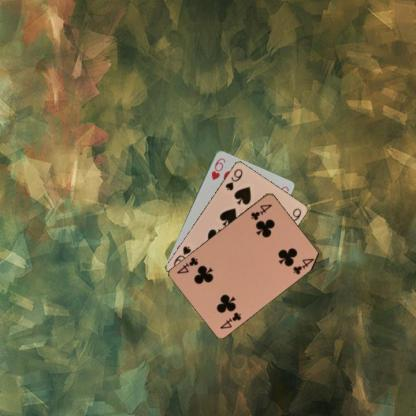4c: (217, 309, 243, 330), (249, 201, 274, 221)
6h: (208, 156, 226, 182)
9s: (222, 166, 244, 192)
